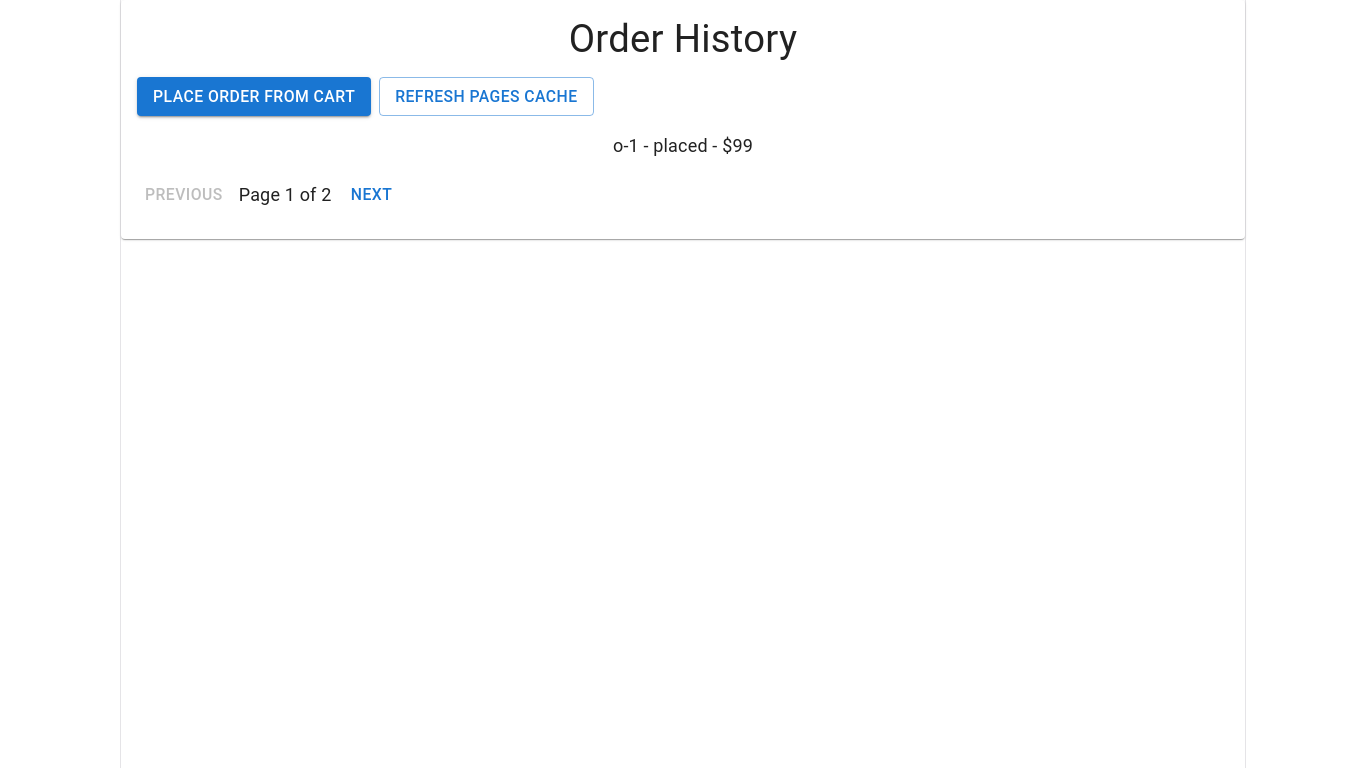
Test: OrdersPage › supports pagination and invalidates caches after placing order
The width and height of the screenshot is (1366, 768).
Expected: the text "o-1 - placed - $99" is shown, [613,135,753,156]
What coordinates should you click on to do the following:
click the button "Next"
I would click on:
 (372, 195)
Its box is [340,175,404,215].
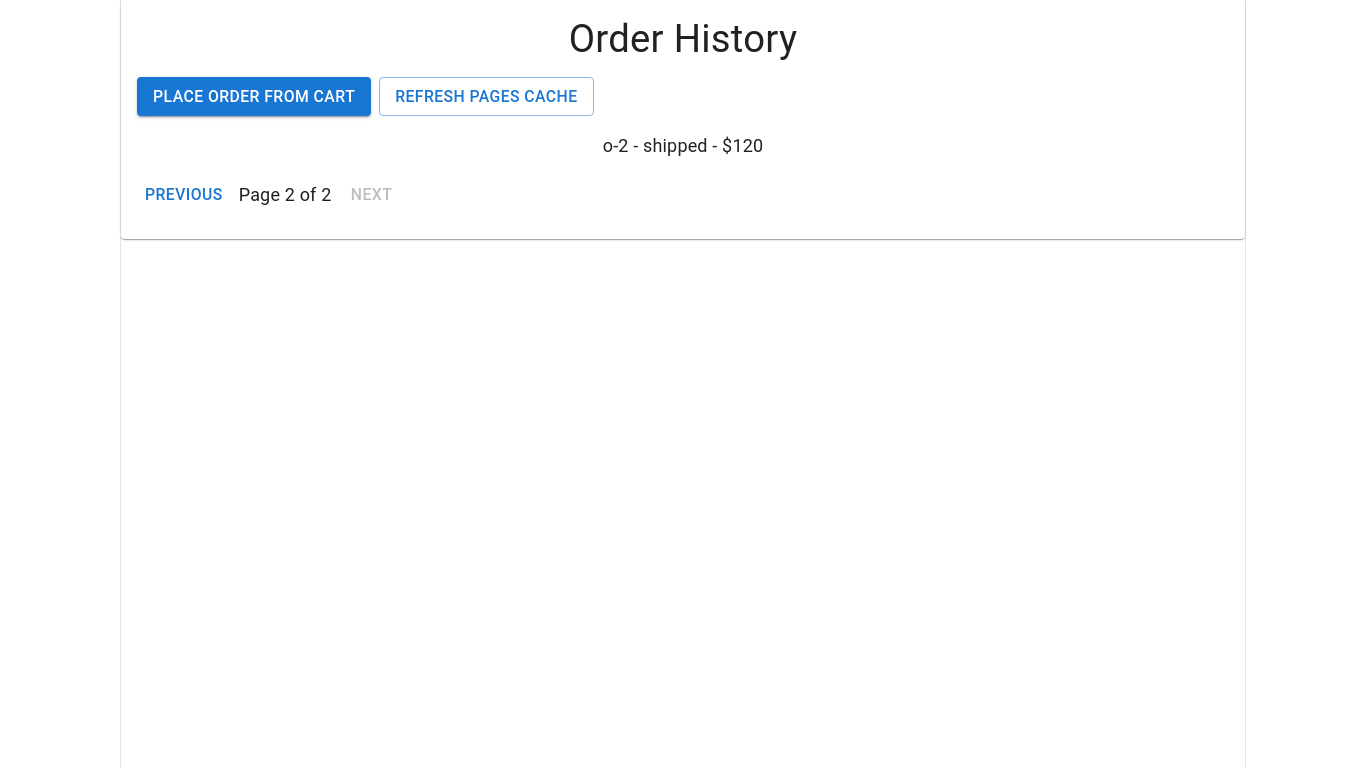
Expected: the text "o-2 - shipped - $120" is shown, [603,135,763,156]
What coordinates should you click on to do the following:
click the button "Place order from cart"
I would click on:
 (254, 96)
Its box is [137,77,371,116].
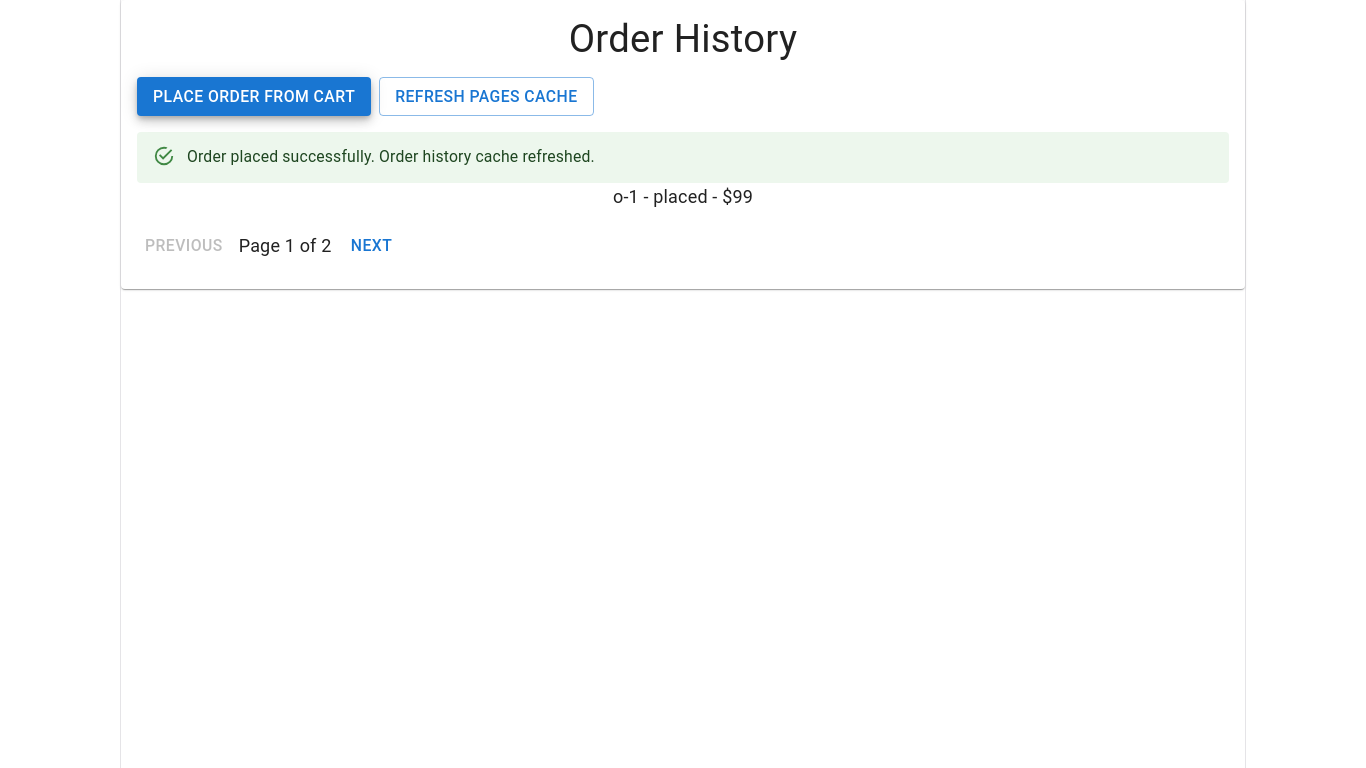
Expected: the text "Order placed successfully. Order history cache refreshed." is shown, [187,147,595,166]
